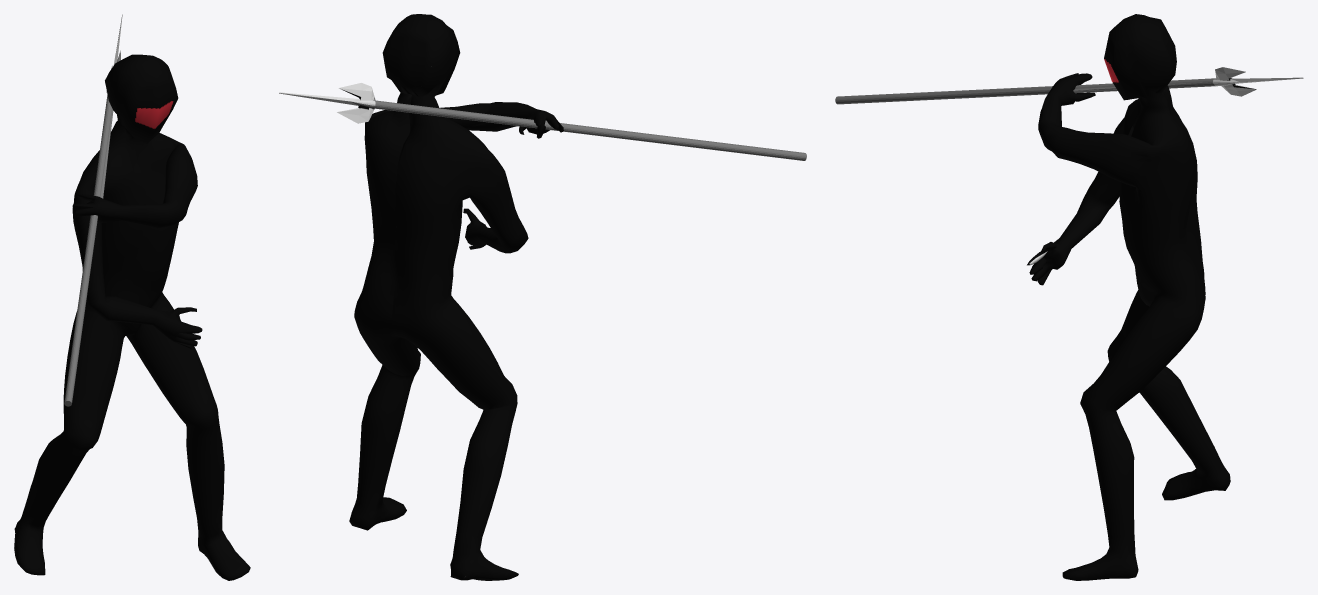
Rendered from boss_sweep_befor.obj.
3 views of the same model, side by side, from view 1: azimuth 30°, elevation 25°; view 2: azimuth 150°, elevation 25°; view 3: azimuth 270°, elevation 25° (orthographic). The views are drawn at different scales.
Visible parts, largest first — view 1: Cube_Cube.001; view 2: Cube_Cube.001; view 3: Cube_Cube.001.
Boxes of the visible parts, x1,y1,x2,y2 form: Cube_Cube.001: [14, 14, 250, 580]; Cube_Cube.001: [279, 14, 806, 580]; Cube_Cube.001: [835, 14, 1303, 580].
Bounding box in the file's own units: 4.06 × 6.7 × 5.34.
1 material, 1 textured.
